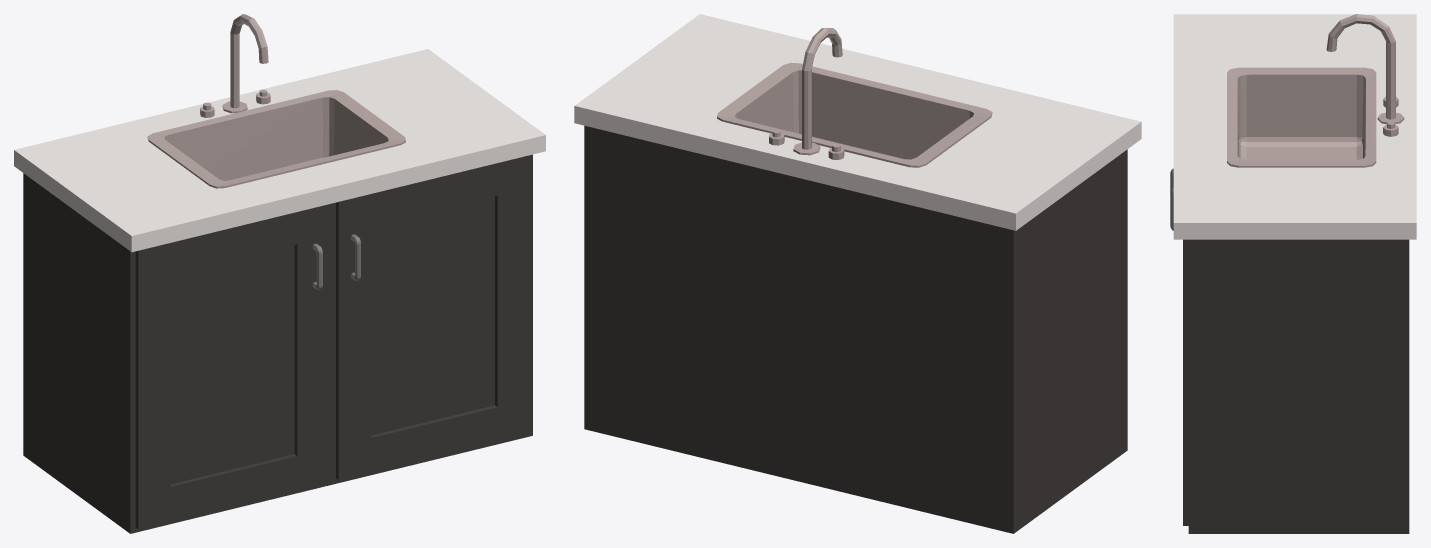
File: Kitchen Tabletop_09.fbx
3 renders of one model, left to right at view 1: azimuth 30°, elevation 25°; view 2: azimuth 150°, elevation 25°; view 3: azimuth 270°, elevation 25°, orthographic. The views are drawn at different scales.
Parts seen in each view (by area): view 1: Kitchen Tabletop_09; view 2: Kitchen Tabletop_09; view 3: Kitchen Tabletop_09.
Boxes of the visible parts, x1,y1,x2,y2 form: Kitchen Tabletop_09: (14,14,545,533); Kitchen Tabletop_09: (574,14,1141,533); Kitchen Tabletop_09: (1170,14,1416,533).
Bounding box in the file's own units: 127 × 119 × 63.28.
